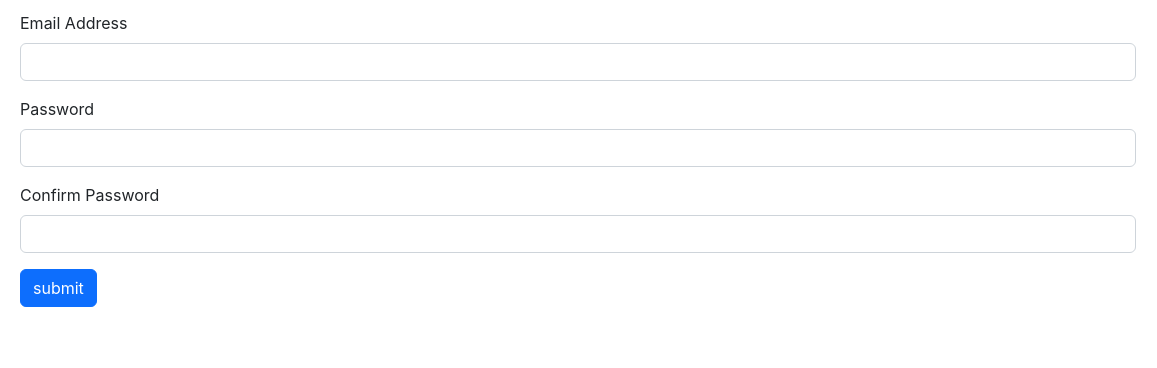
Test: should show an error if passwords dont match, but email is correct
The width and height of the screenshot is (1157, 368).
Expected: the text "Passwords do not match" is not shown
In the field labelled "Email Address": (578, 62) [20, 43, 1136, 81], type "test@test.com"
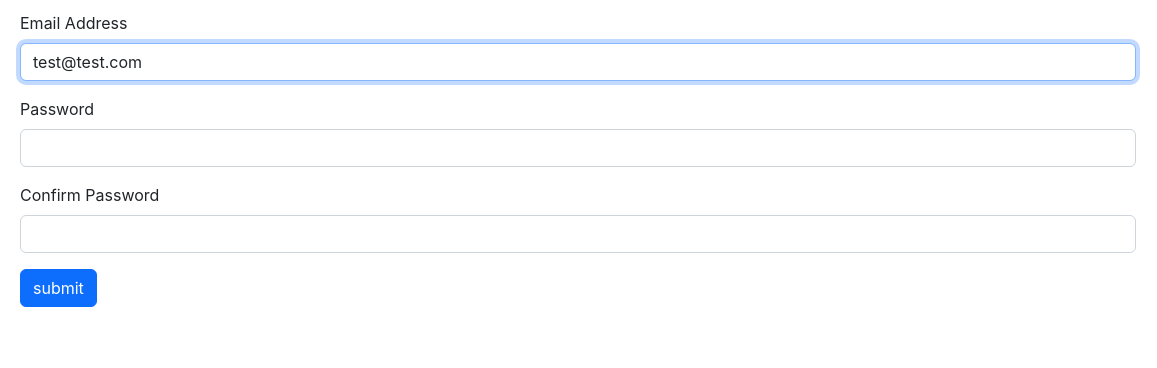
In the password field labelled "Password": (578, 148) [20, 129, 1136, 167], type "testing"
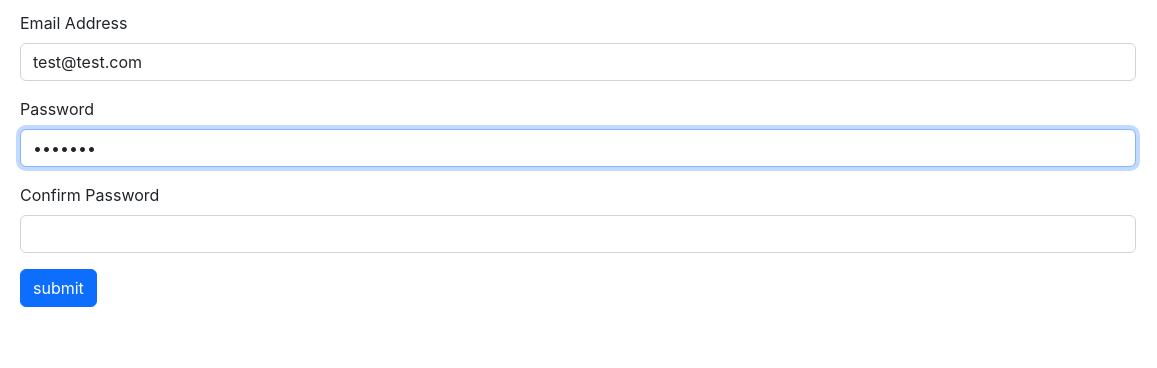
In the password field labelled "Confirm Password": (578, 234) [20, 215, 1136, 253], type "nottesting"
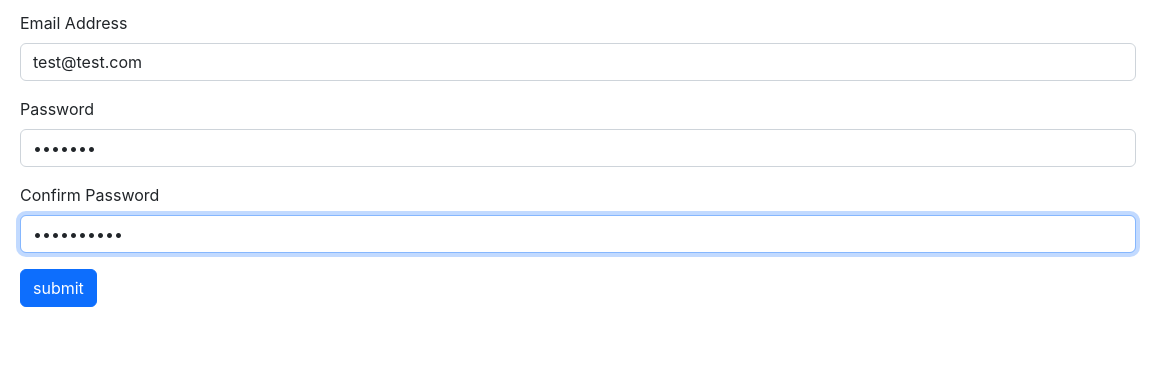
Click the button "submit": click(58, 288) [20, 269, 97, 307]
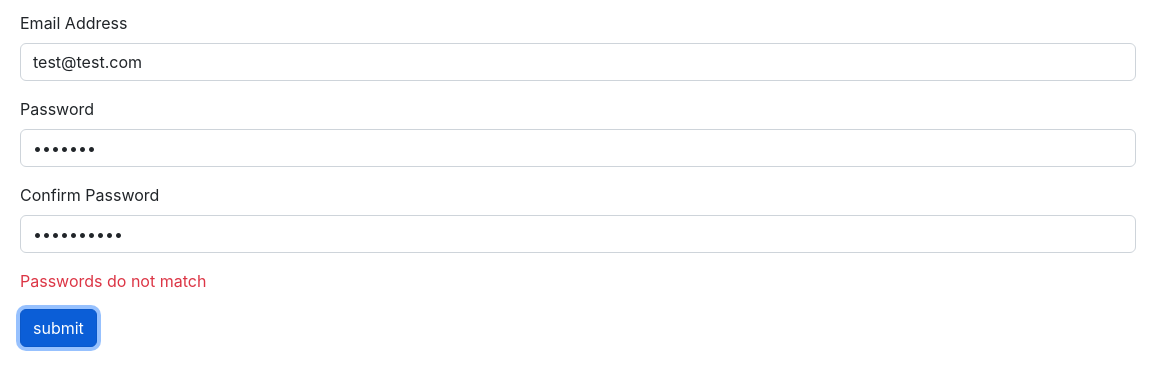
Result: the text "Passwords do not match" is shown at [20, 271, 206, 291]
